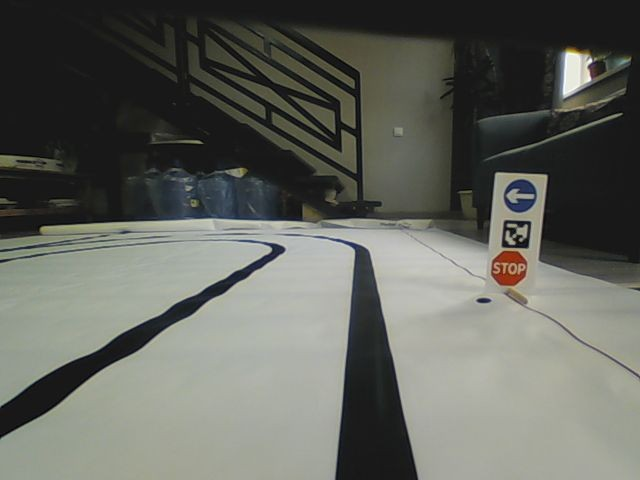Stop: (489, 249, 529, 288)
